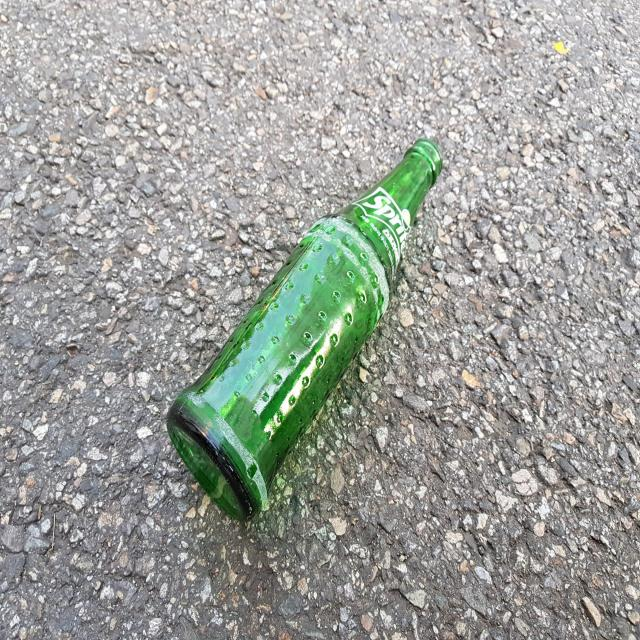glass: (167, 139, 443, 522)
